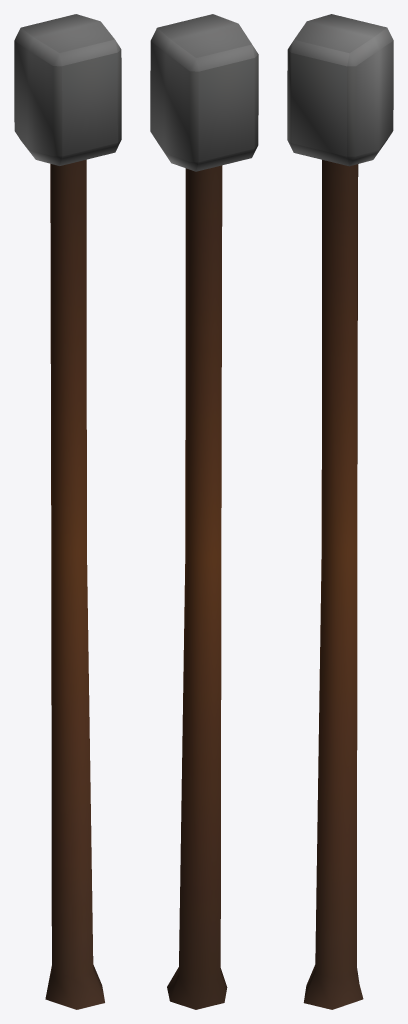
The model's file is huoba.fbx.
3 views of the same model, side by side, from view 1: azimuth 30°, elevation 25°; view 2: azimuth 210°, elevation 25°; view 3: azimuth 330°, elevation 25° (orthographic).
Visible parts, largest first — view 1: Hammer2h_01; view 2: Hammer2h_01; view 3: Hammer2h_01.
Part boxes in pixels (x1,y1,x2,y2): Hammer2h_01: (14, 14, 121, 1009); Hammer2h_01: (150, 14, 258, 1009); Hammer2h_01: (287, 14, 393, 1009).
Bounding box in the file's own units: 0.1104 × 1.3 × 0.1095.
